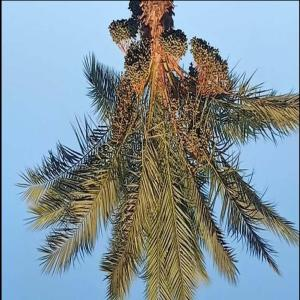palm tree: (14, 0, 299, 299)
